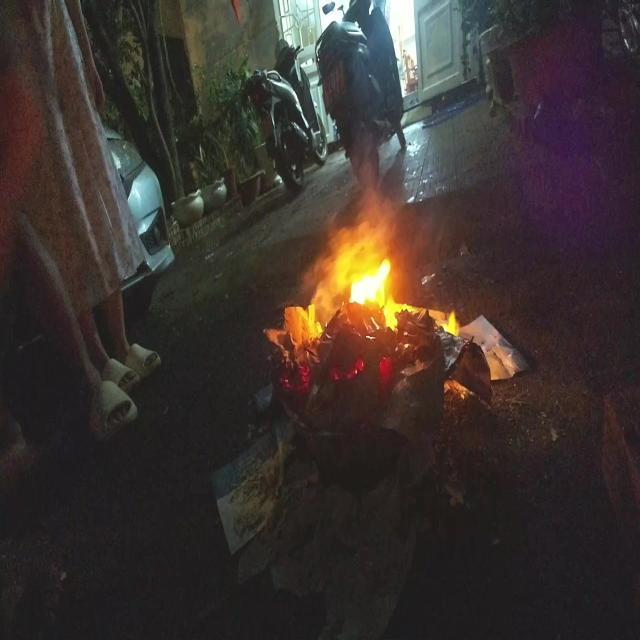Fire: (298, 183, 418, 348), (440, 306, 460, 338)
